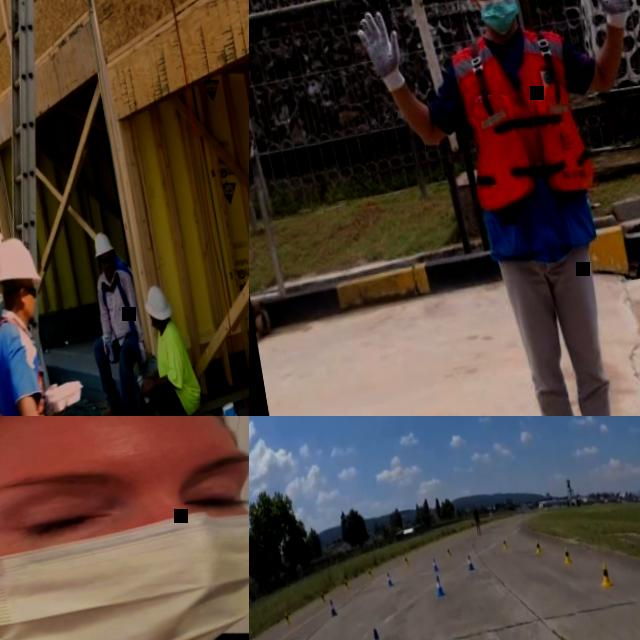Hardhat: (0, 230, 41, 288), (143, 279, 172, 323), (90, 231, 114, 258)
Mask: (0, 503, 249, 640), (471, 0, 525, 36)
NO-Hardhat: (0, 416, 244, 500)
NO-Mask: (20, 295, 36, 317), (102, 263, 117, 280), (149, 317, 158, 327)
NO-Safety Vest: (0, 314, 49, 416), (151, 323, 193, 398), (96, 272, 136, 342), (473, 510, 479, 522)
Person: (337, 0, 640, 416), (0, 416, 249, 640), (0, 230, 101, 416), (96, 277, 217, 416), (72, 226, 158, 416), (472, 505, 482, 534)
Safety Cone: (597, 561, 612, 588), (433, 573, 446, 600), (368, 627, 390, 640), (327, 596, 338, 618), (561, 545, 572, 566), (466, 553, 476, 573), (282, 612, 293, 630), (385, 571, 394, 589), (534, 538, 543, 555), (430, 556, 439, 573), (318, 589, 327, 604), (343, 577, 351, 592), (366, 566, 373, 580), (445, 545, 452, 557), (404, 554, 410, 567), (502, 538, 508, 550)
Safety Vest: (447, 23, 597, 212)
